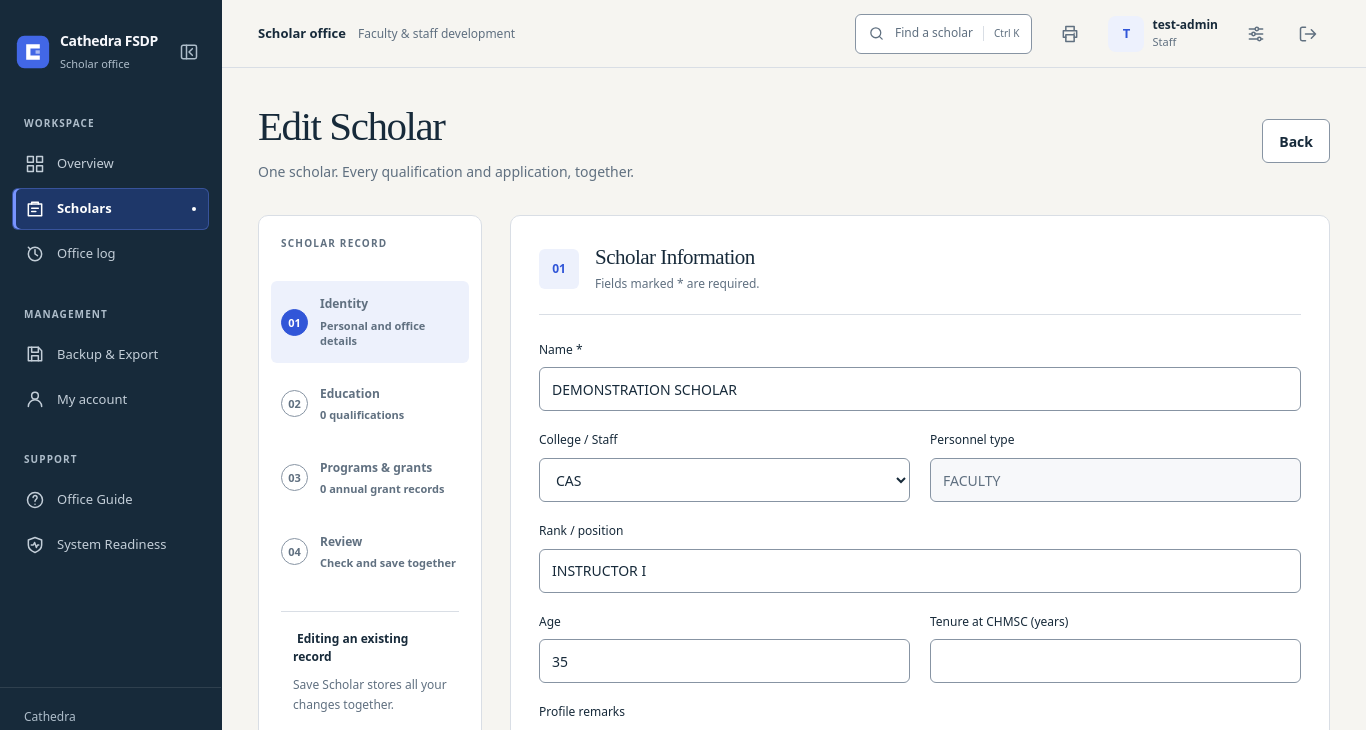
staff logout warning offers an administrator recovery path
This screenshot has width=1366, height=730.
Expected: the field labelled "Name *" is shown, [539, 367, 1301, 411]
Click the button named "Logout".
click(1308, 34)  # box [1286, 12, 1330, 56]
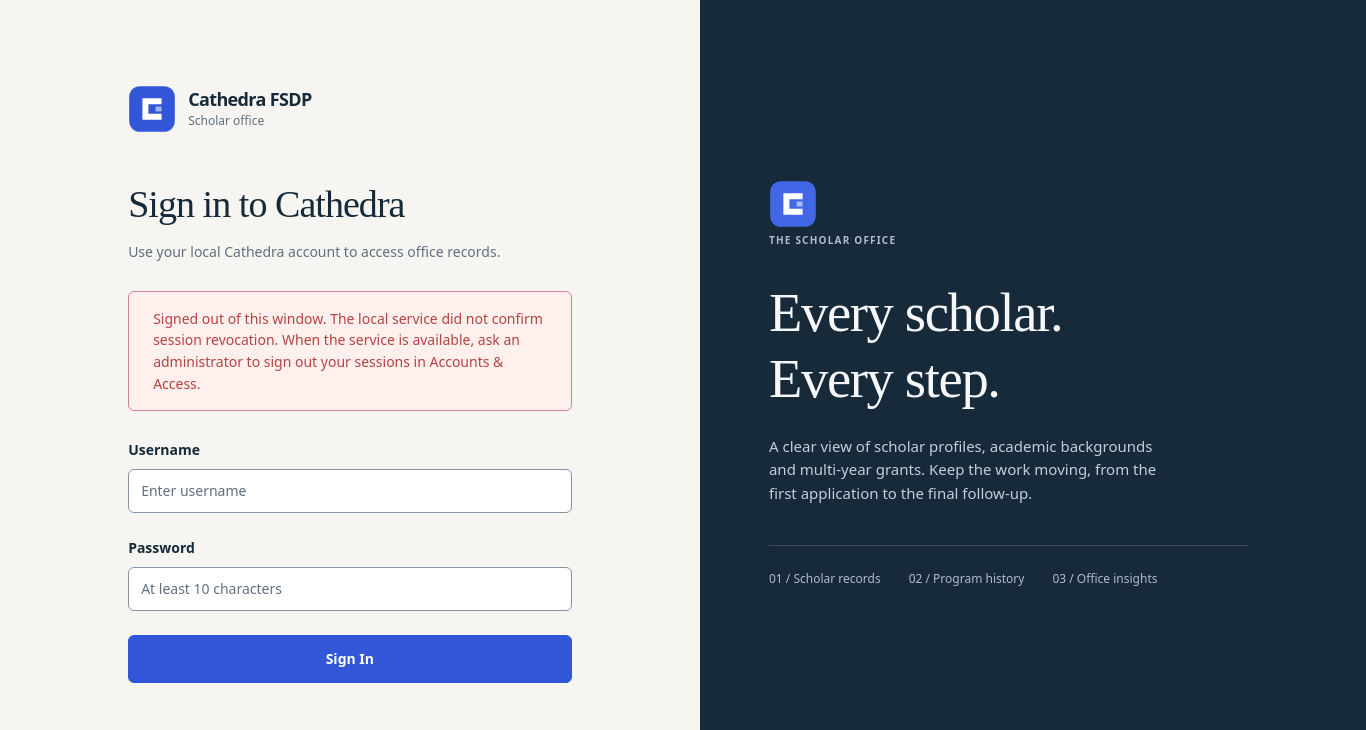
Now the text "ask an administrator to sign out your sessions" is shown, box [153, 308, 543, 393]
